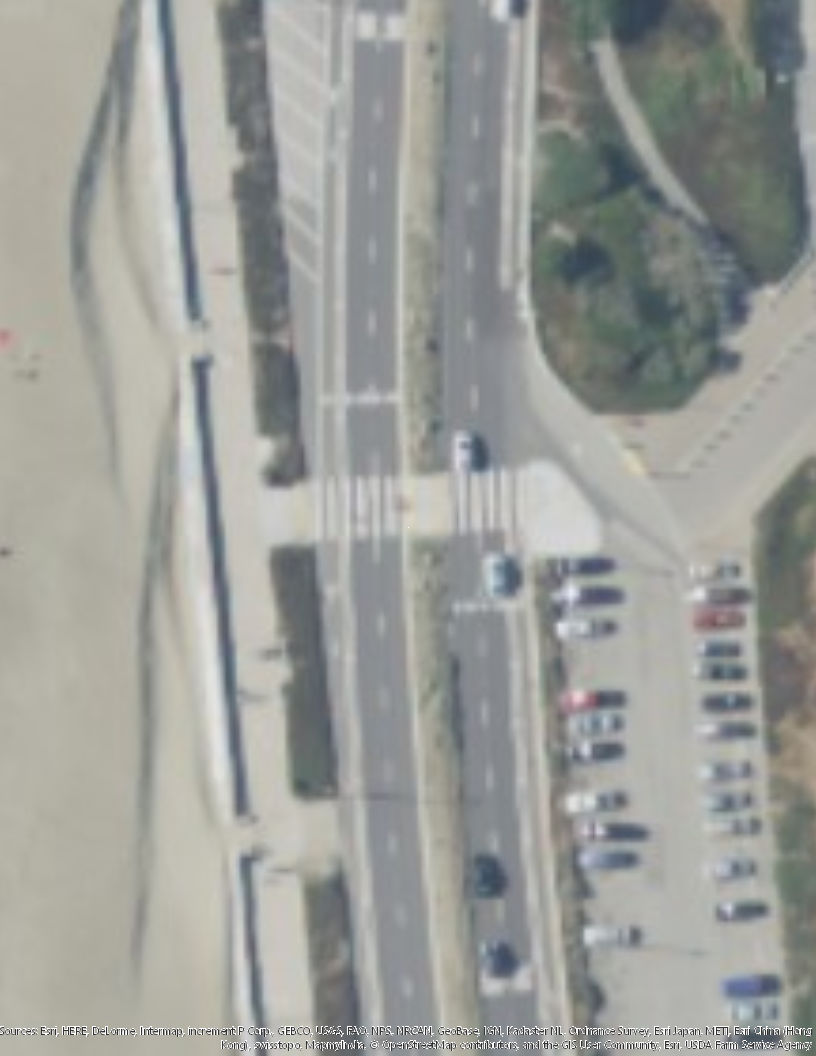zebracross: (317, 473, 403, 543), (452, 465, 517, 529)
